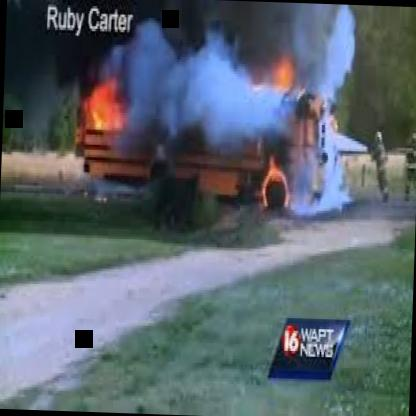fire: (73, 49, 347, 202)
